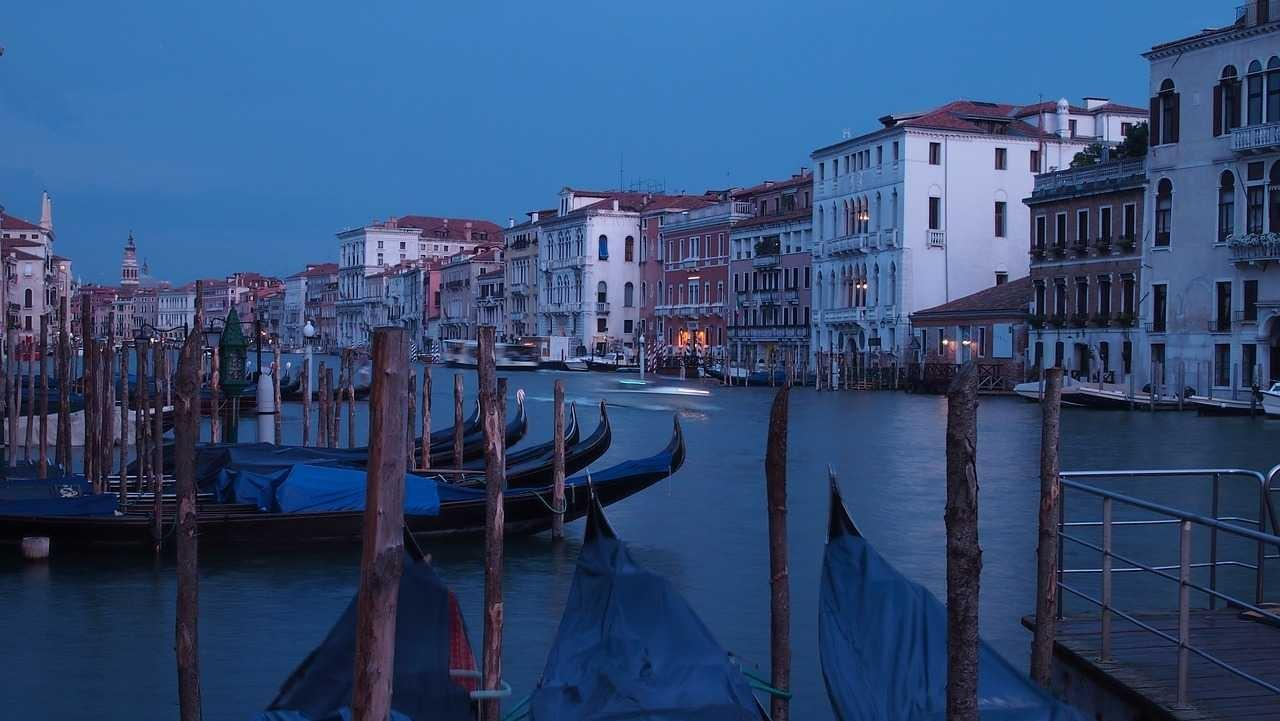kayak: (54, 406, 683, 547), (817, 463, 1163, 715), (530, 480, 768, 715), (1016, 378, 1133, 408), (440, 339, 539, 370), (1260, 379, 1280, 416)
